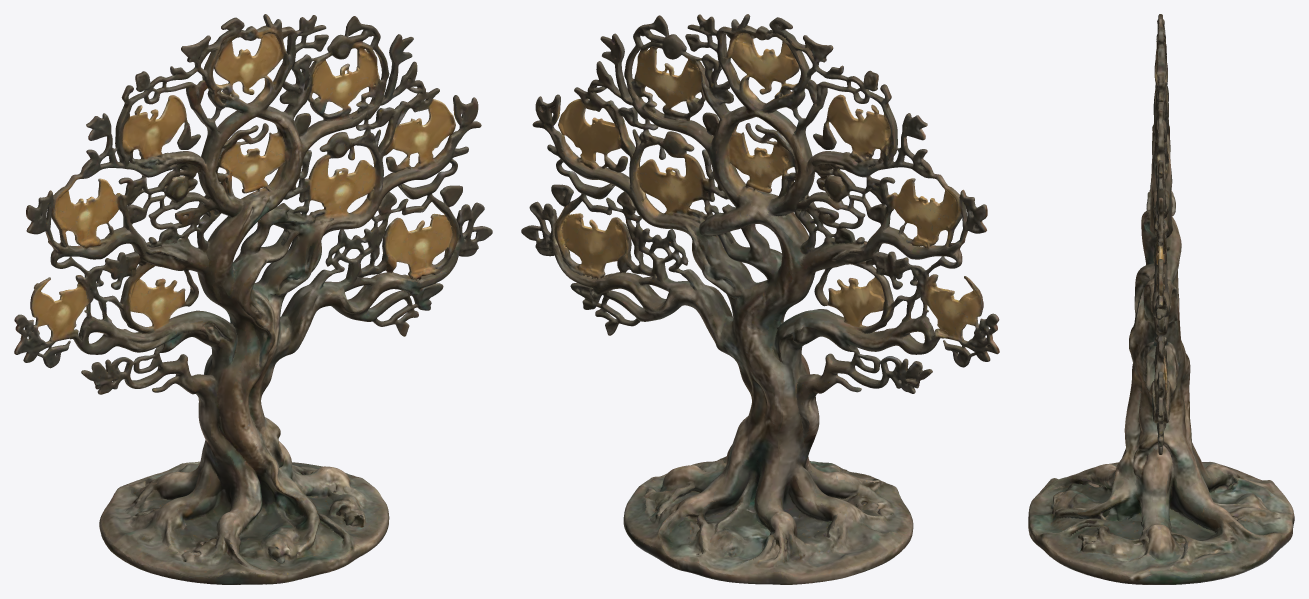
Rendered from fusang-tree.glb.
3 views of the same model, side by side, from view 1: azimuth 30°, elevation 25°; view 2: azimuth 150°, elevation 25°; view 3: azimuth 270°, elevation 25° (orthographic). The views are drawn at different scales.
Visible parts, largest first — view 1: geometry_0; view 2: geometry_0; view 3: geometry_0.
Boxes of the visible parts, x1,y1,x2,y2 form: geometry_0: (14,14,492,584); geometry_0: (521,14,999,584); geometry_0: (1028,14,1294,584).
Size of the model in its own units: 0.5091 by 0.52 by 0.2547.
Materials: 1 (1 with a texture image).
